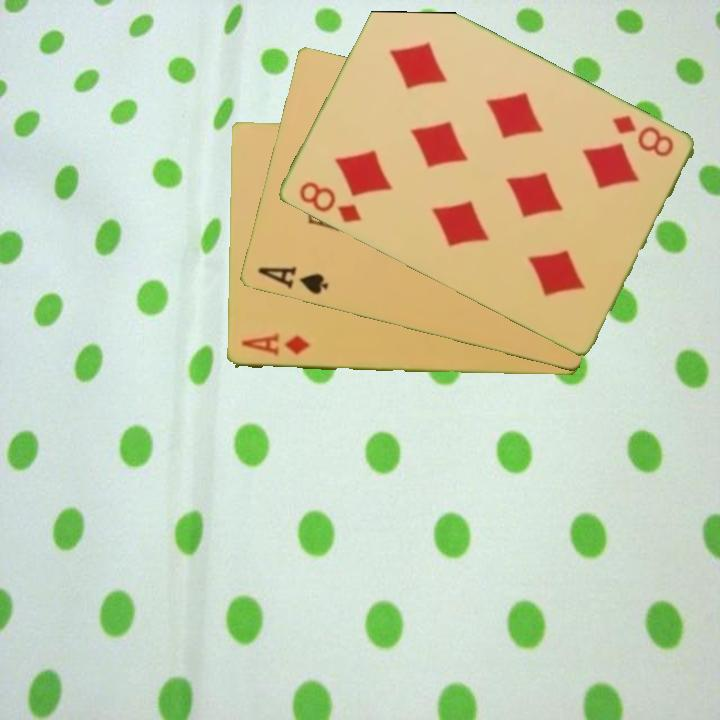8d: (608, 111, 677, 161), (295, 178, 364, 226)
Ad: (237, 332, 313, 360)
As: (253, 263, 331, 298)
